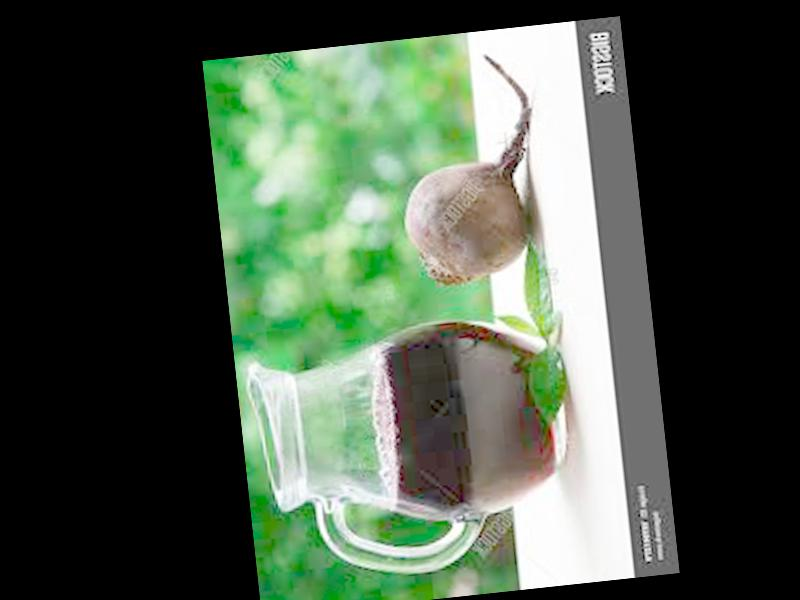Beet: (390, 52, 549, 287)
